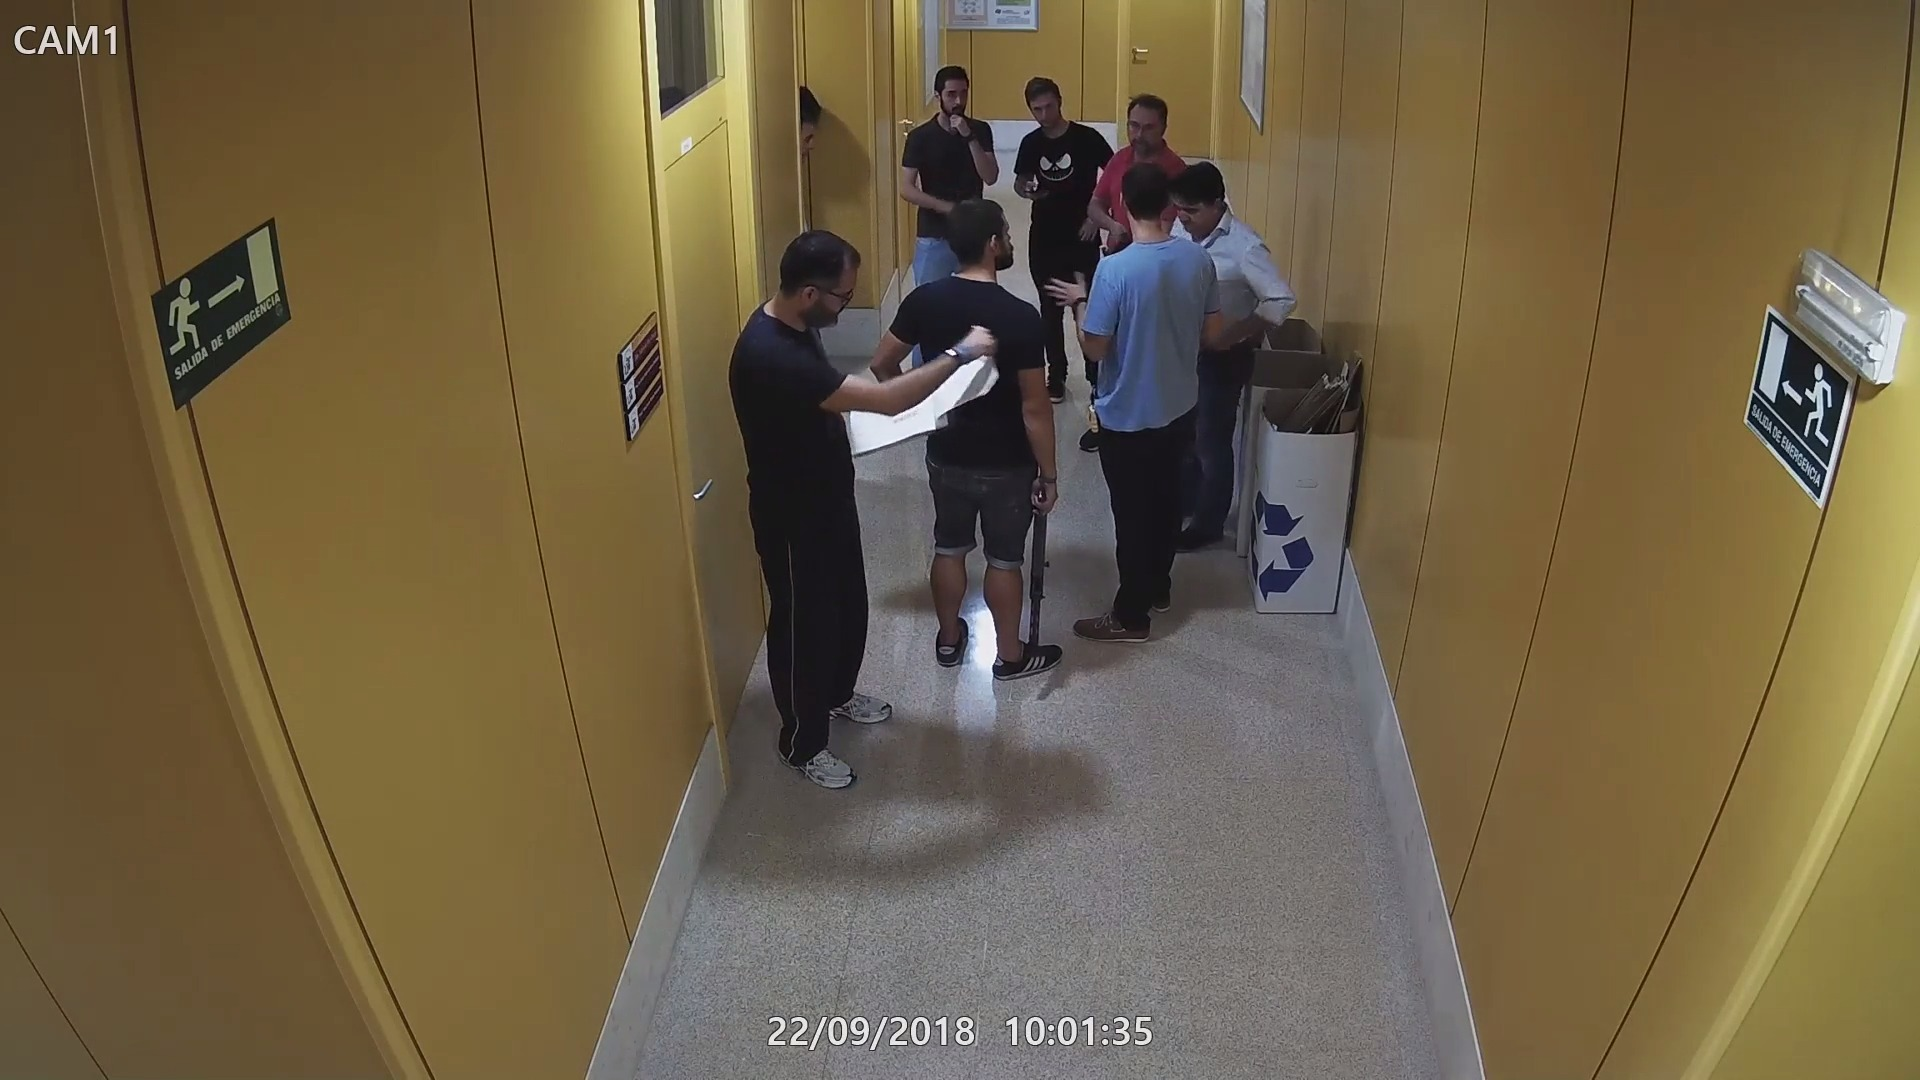Short_rifle: (1026, 475, 1060, 671)
